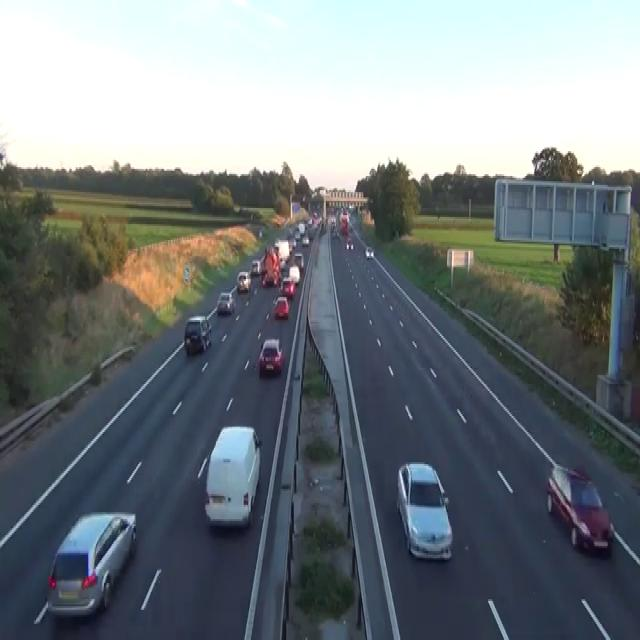Car: (46, 510, 137, 619), (546, 464, 614, 555), (204, 425, 262, 528), (396, 460, 452, 560), (183, 314, 211, 356), (258, 338, 283, 375), (216, 292, 234, 314), (273, 295, 289, 318), (279, 275, 295, 297), (236, 270, 251, 292), (262, 270, 278, 286), (288, 265, 300, 284), (294, 251, 304, 270), (251, 260, 261, 276), (259, 254, 266, 274), (272, 215, 282, 228), (365, 245, 374, 258), (298, 222, 305, 235), (346, 240, 354, 251), (331, 226, 339, 236), (301, 237, 309, 246), (279, 256, 285, 268), (347, 224, 353, 235), (294, 228, 300, 238), (274, 238, 280, 247), (291, 237, 296, 247), (258, 228, 262, 238)
